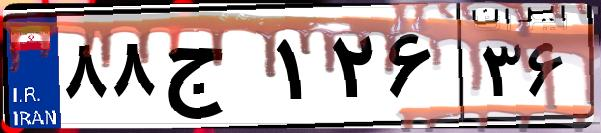1: (270, 28, 330, 110)
2: (330, 28, 385, 110)
3: (475, 38, 525, 113)
6: (385, 28, 445, 110), (525, 38, 570, 115)
8: (57, 26, 110, 100), (110, 28, 158, 98)
ج: (158, 20, 270, 120)
